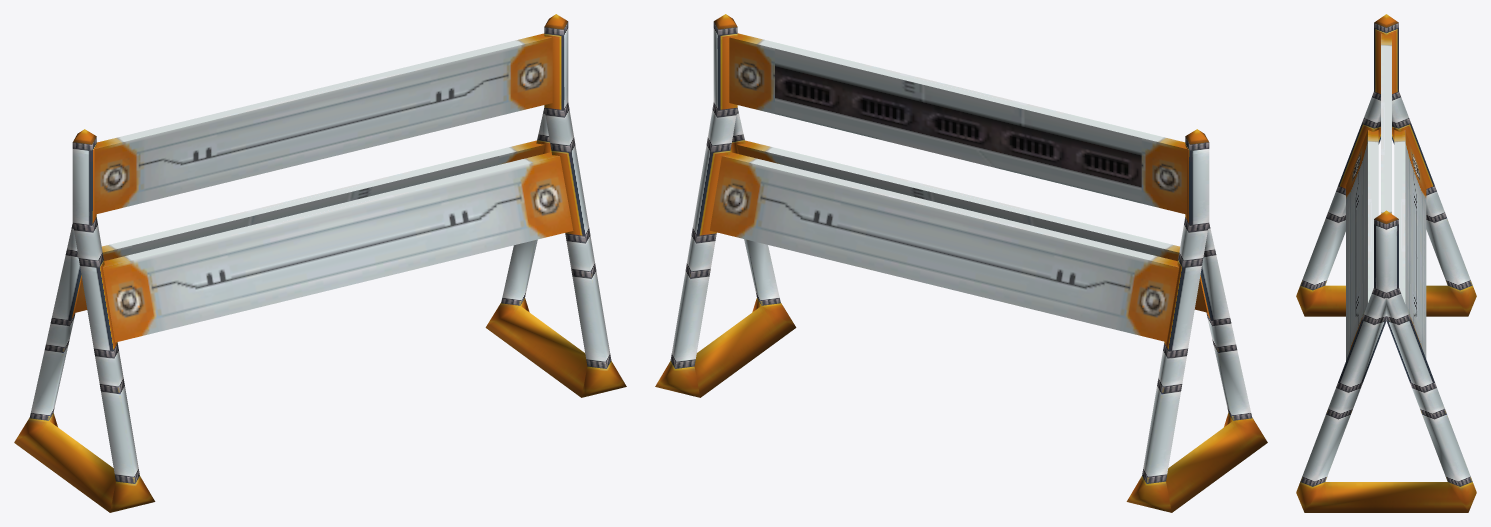
The model's file is stg200_obj_barricade.obj.
3 renders of one model, left to right at view 1: azimuth 30°, elevation 25°; view 2: azimuth 150°, elevation 25°; view 3: azimuth 270°, elevation 25°, orthographic. The views are drawn at different scales.
Parts seen in each view (by area): view 1: polygon0, polygon1; view 2: polygon0, polygon1; view 3: polygon0.
Boxes of the visible parts, x1,y1,x2,y2 form: polygon0: (14,14,626,512); polygon1: (130,156,498,254); polygon0: (655,14,1267,512); polygon1: (775,48,1151,254); polygon0: (1296,14,1476,512).
Bounding box in the file's own units: 24.71 × 15.68 × 8.77.
2 materials, 2 textured.
